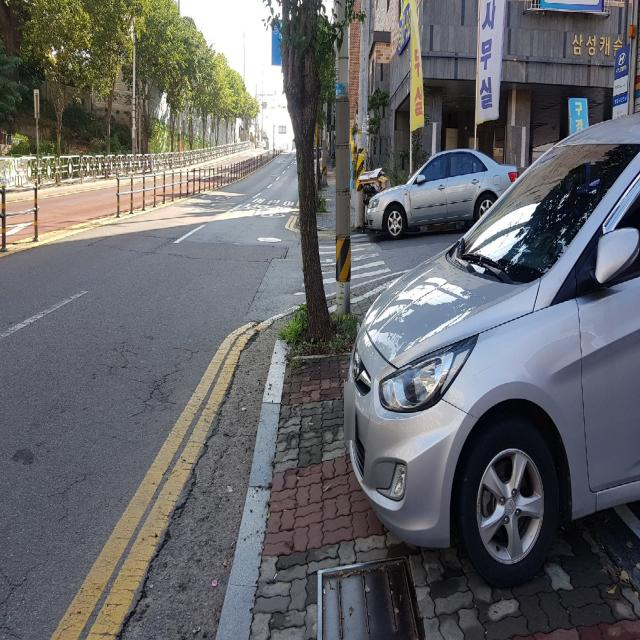횡단보도: (301, 233, 391, 287)
